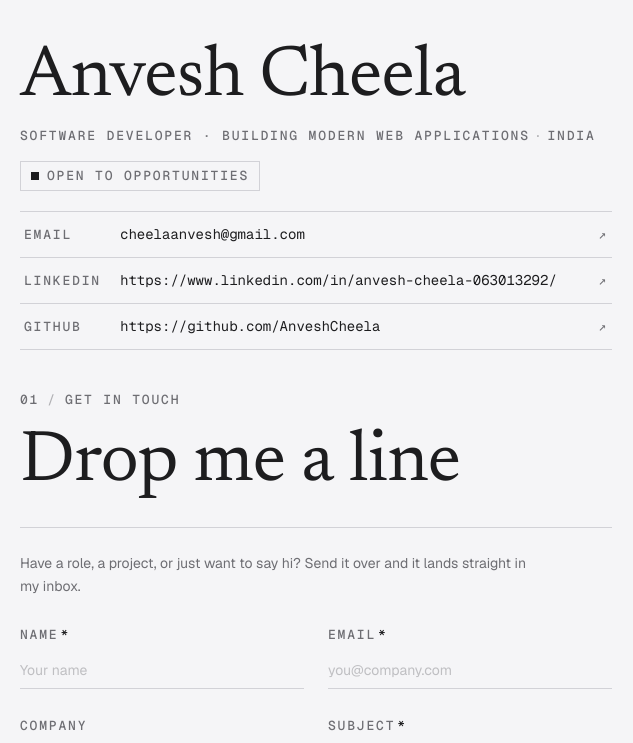
Test: ContactApp submission › shows the error state and allows retry when the request fails
In the field with placeholder "Your name": x=162, y=670 x1=20 y1=652 x2=304 y2=688, type "Jordan"
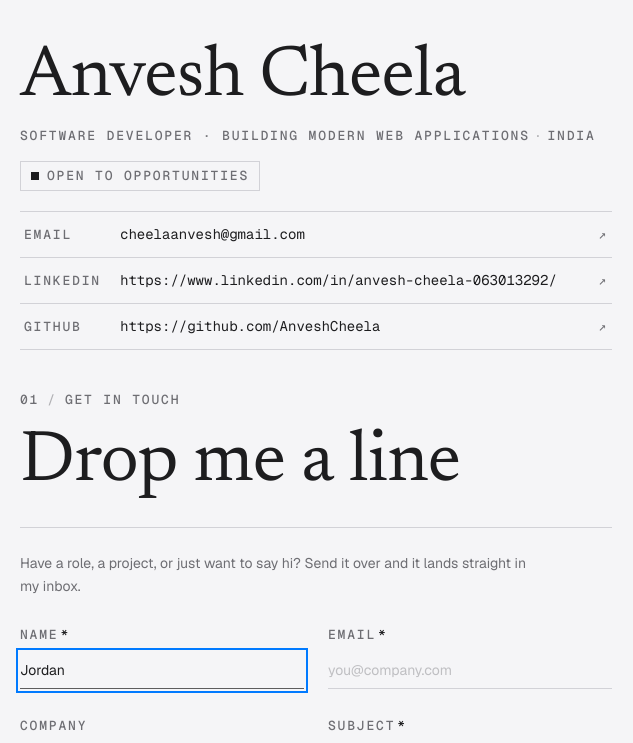
In the field with placeholder "you@company.com": x=470, y=670 x1=328 y1=652 x2=612 y2=688, type "jordan@acme.com"
(page scrolled)
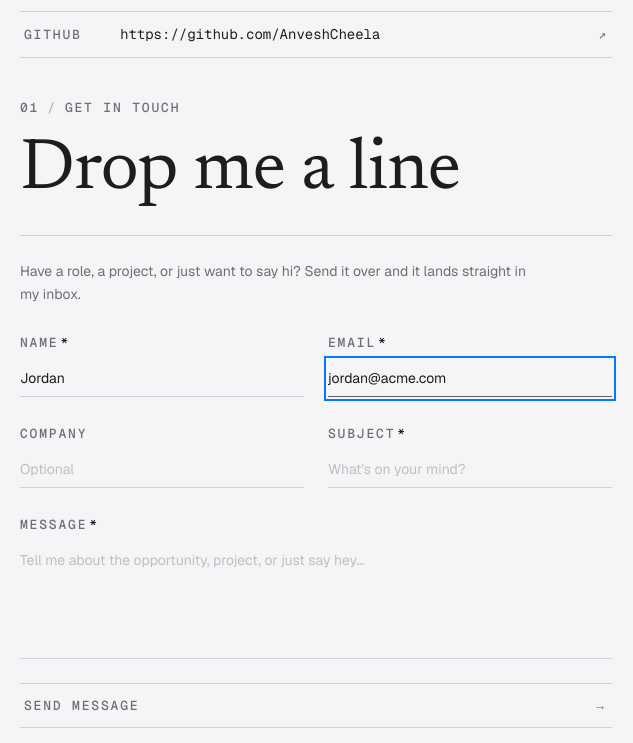
In the field with placeholder "What's on your mind?": x=470, y=469 x1=328 y1=450 x2=612 y2=488, type "Founding engineer role"
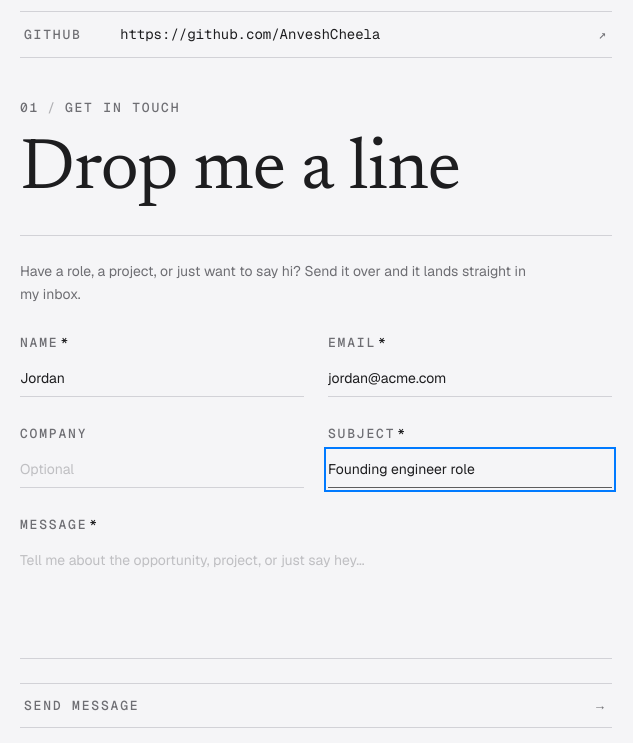
In the text box with placeholder "Tell me about the opportunity, project, or just say hey...": x=316, y=600 x1=20 y1=542 x2=612 y2=658, type "We are hiring and your MCP work looks like a fit."
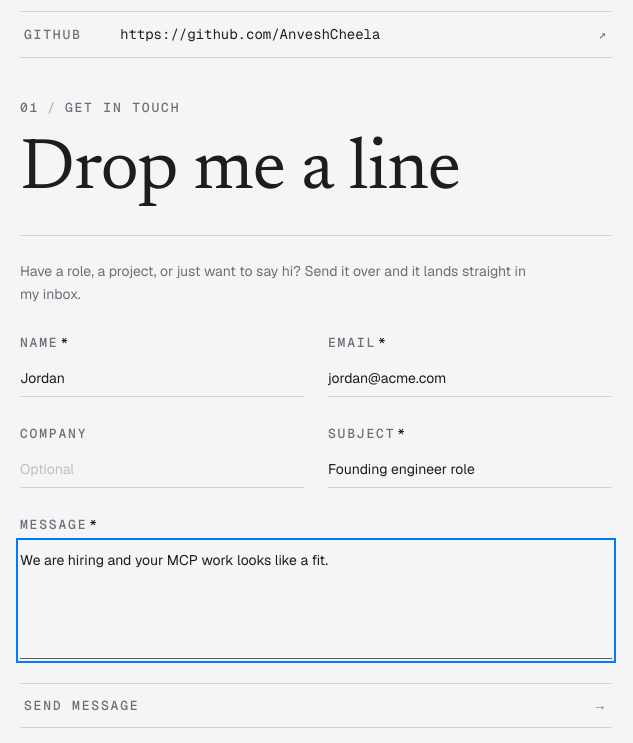
Click the button "Send message →": x=82, y=705 x1=20 y1=684 x2=612 y2=727
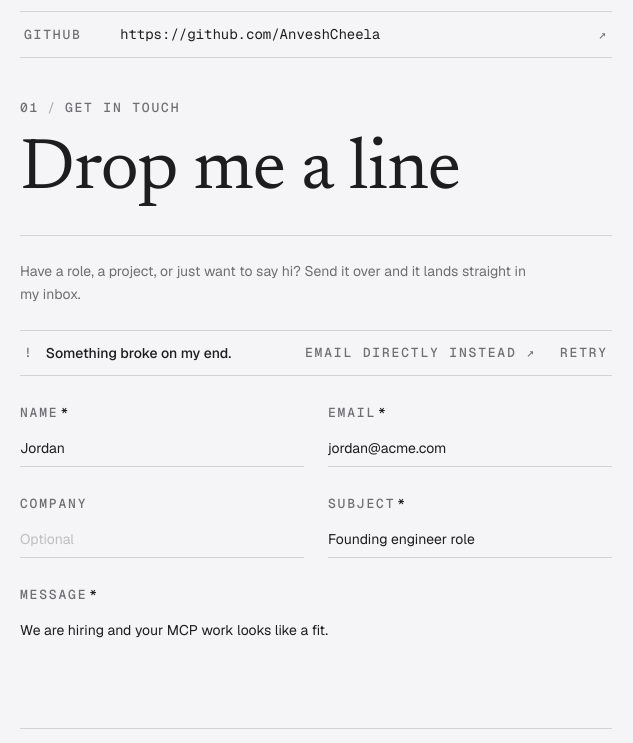
Expected: the text "Something broke on my end." is shown, x1=46 y1=342 x2=231 y2=362
Expected: the button "Retry" is shown, x1=560 y1=343 x2=608 y2=362
